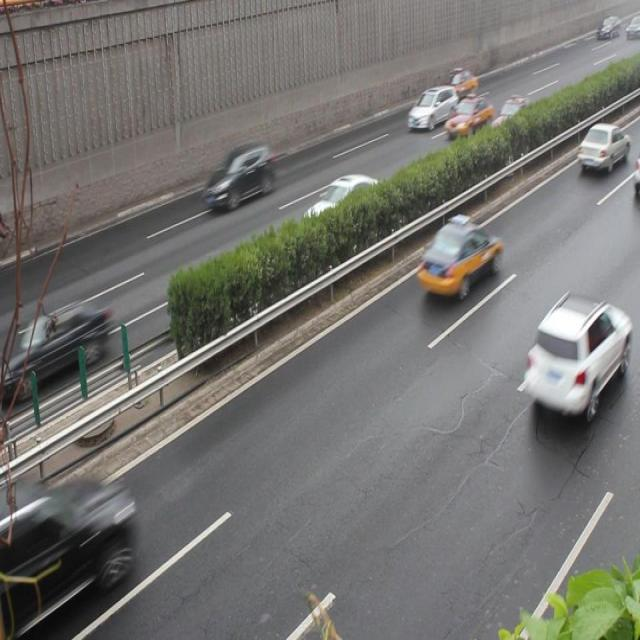car: (1, 484, 132, 632), (522, 293, 624, 419), (22, 302, 111, 380), (418, 218, 499, 300), (302, 172, 381, 245), (203, 142, 274, 209), (576, 122, 627, 173), (488, 97, 541, 146), (406, 84, 454, 134), (444, 94, 491, 138)
